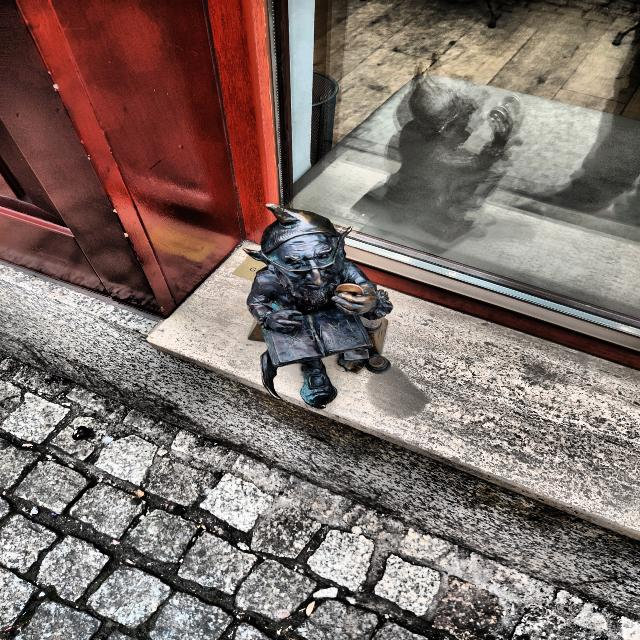Gaugan: (245, 204, 393, 409)
